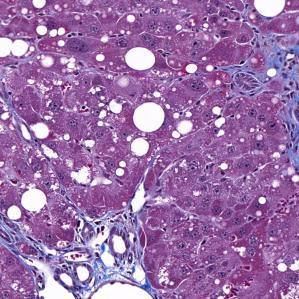fibrosis: (244, 38, 299, 161), (68, 219, 148, 274)
